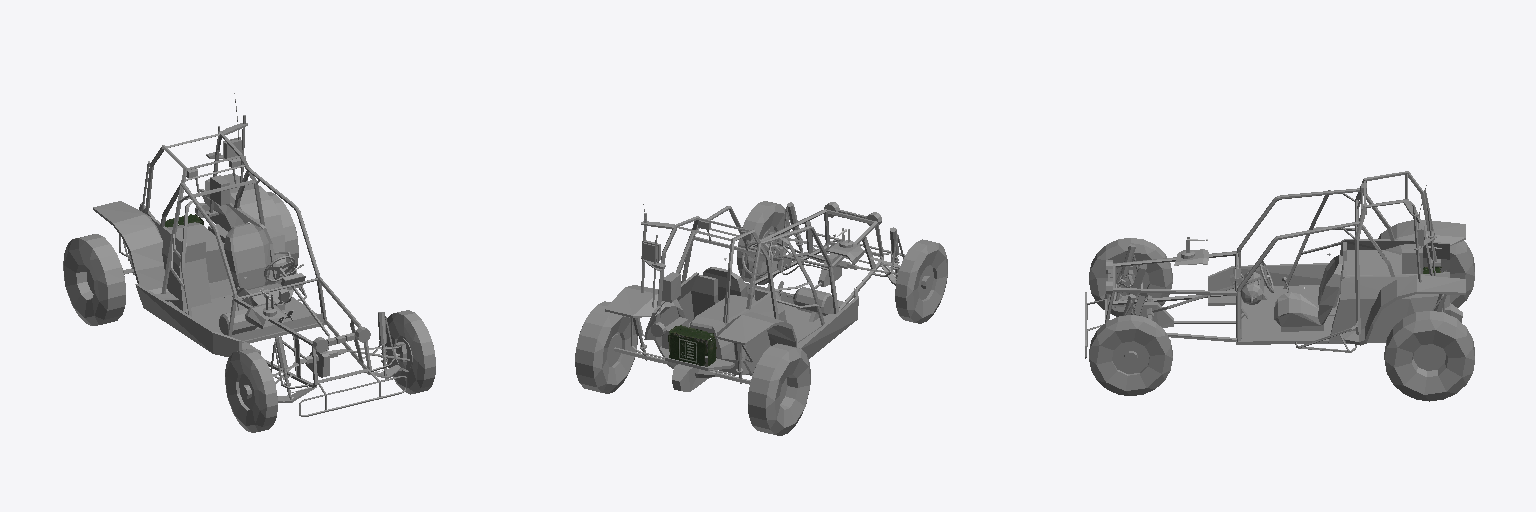
3 renders of one model, left to right at view 1: azimuth 30°, elevation 25°; view 2: azimuth 150°, elevation 25°; view 3: azimuth 270°, elevation 25°, orthographic.
Visible parts, largest first — view 1: (null); view 2: (null); view 3: (null).
Part boxes in pixels (left/top/right/bottom): (null): left=63, top=93, right=435, bottom=432; (null): left=575, top=201, right=947, bottom=435; (null): left=1085, top=171, right=1474, bottom=401.
Bounding box in the file's own units: 104 × 99.24 × 177.
Materials: 2 (1 with a texture image).